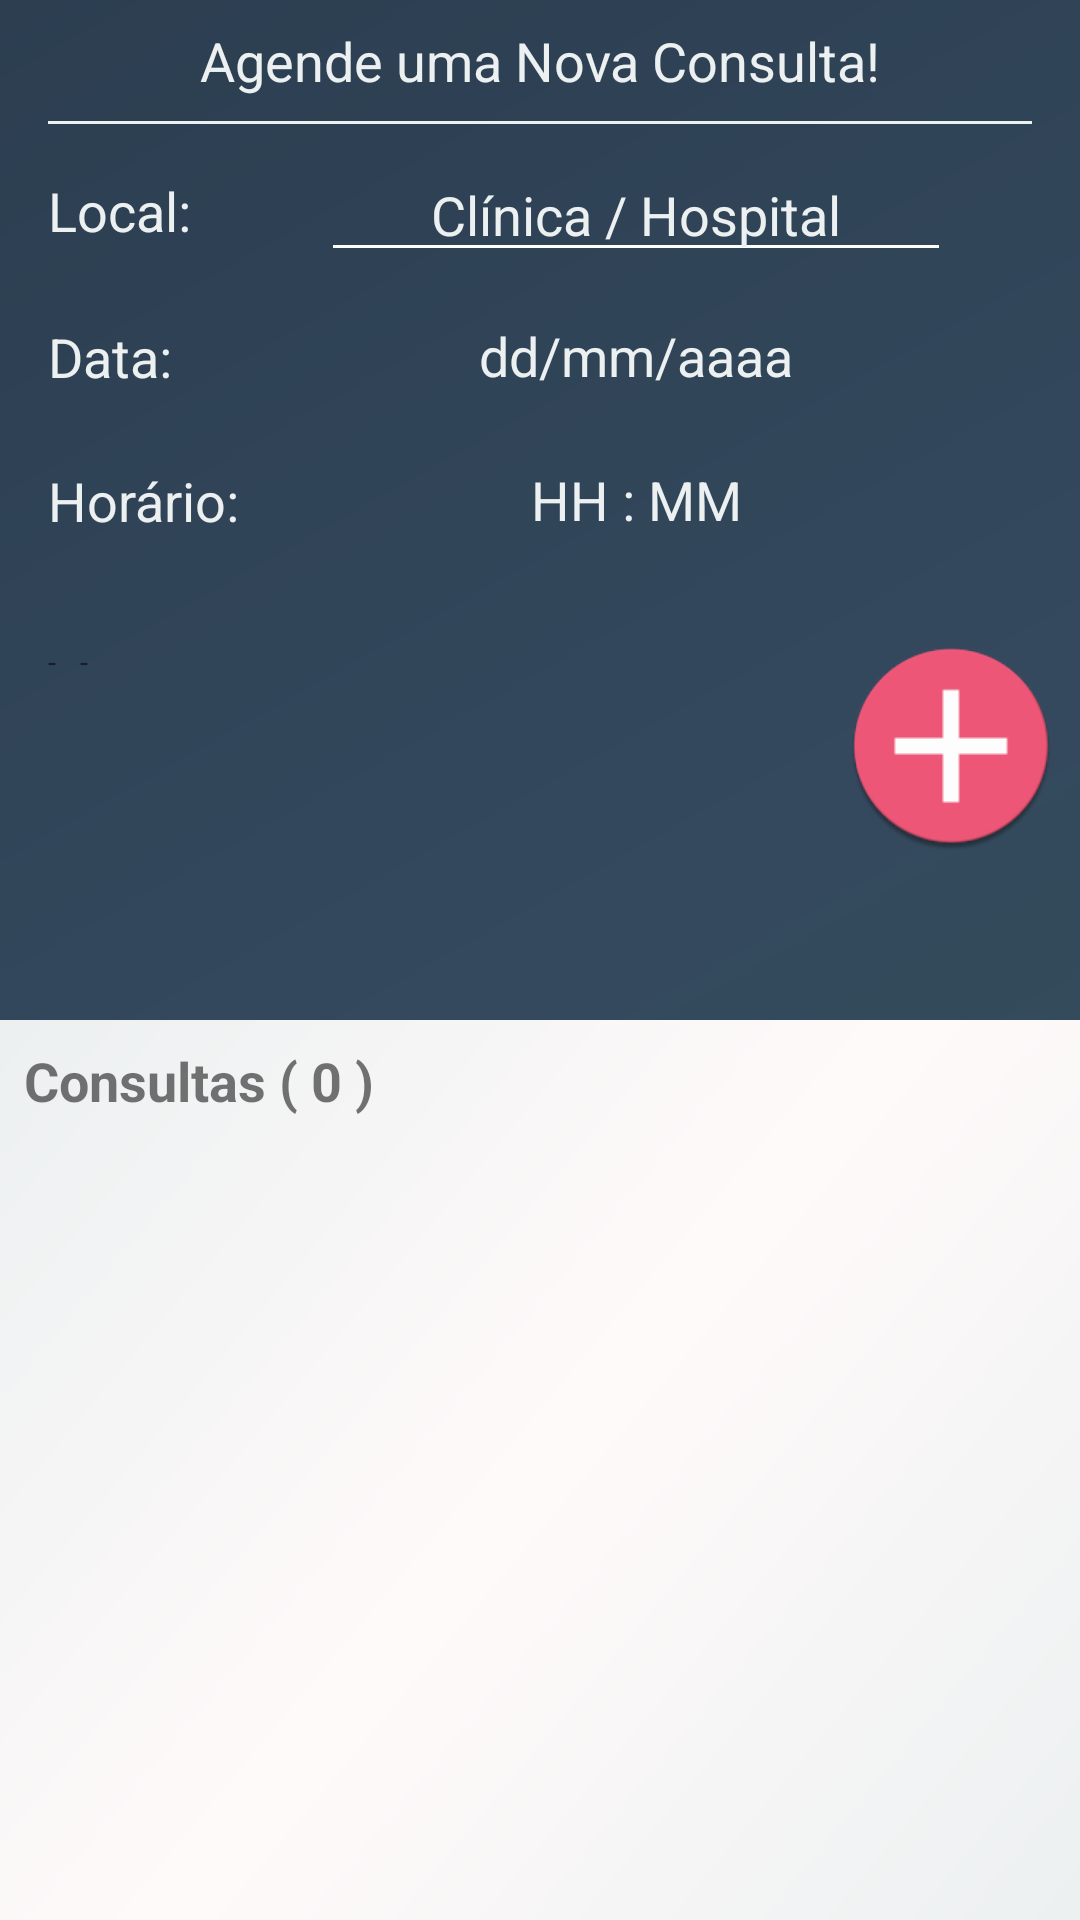

Point at icon controls on the screen. Image size 1080×1920, points as (x=x, y=y).
adicionar rosa: (x=950, y=747)
